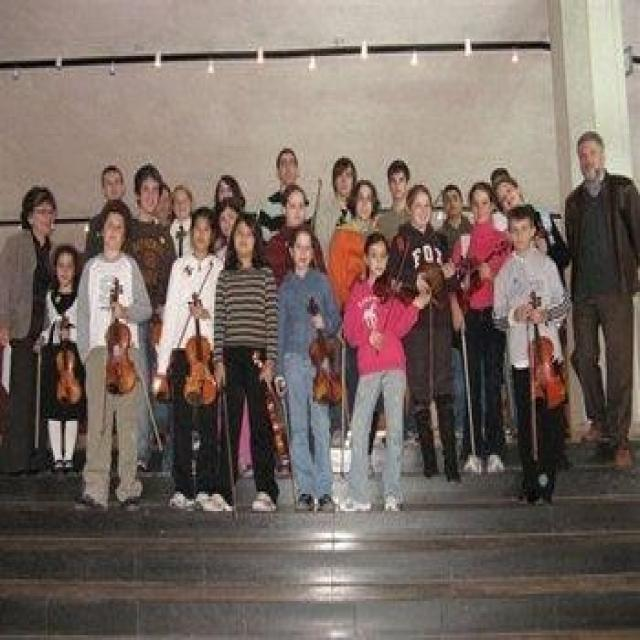violin: (524, 290, 568, 408), (180, 290, 221, 408), (252, 353, 293, 467), (302, 296, 344, 407), (102, 276, 136, 396), (52, 311, 84, 406), (418, 254, 481, 291)
